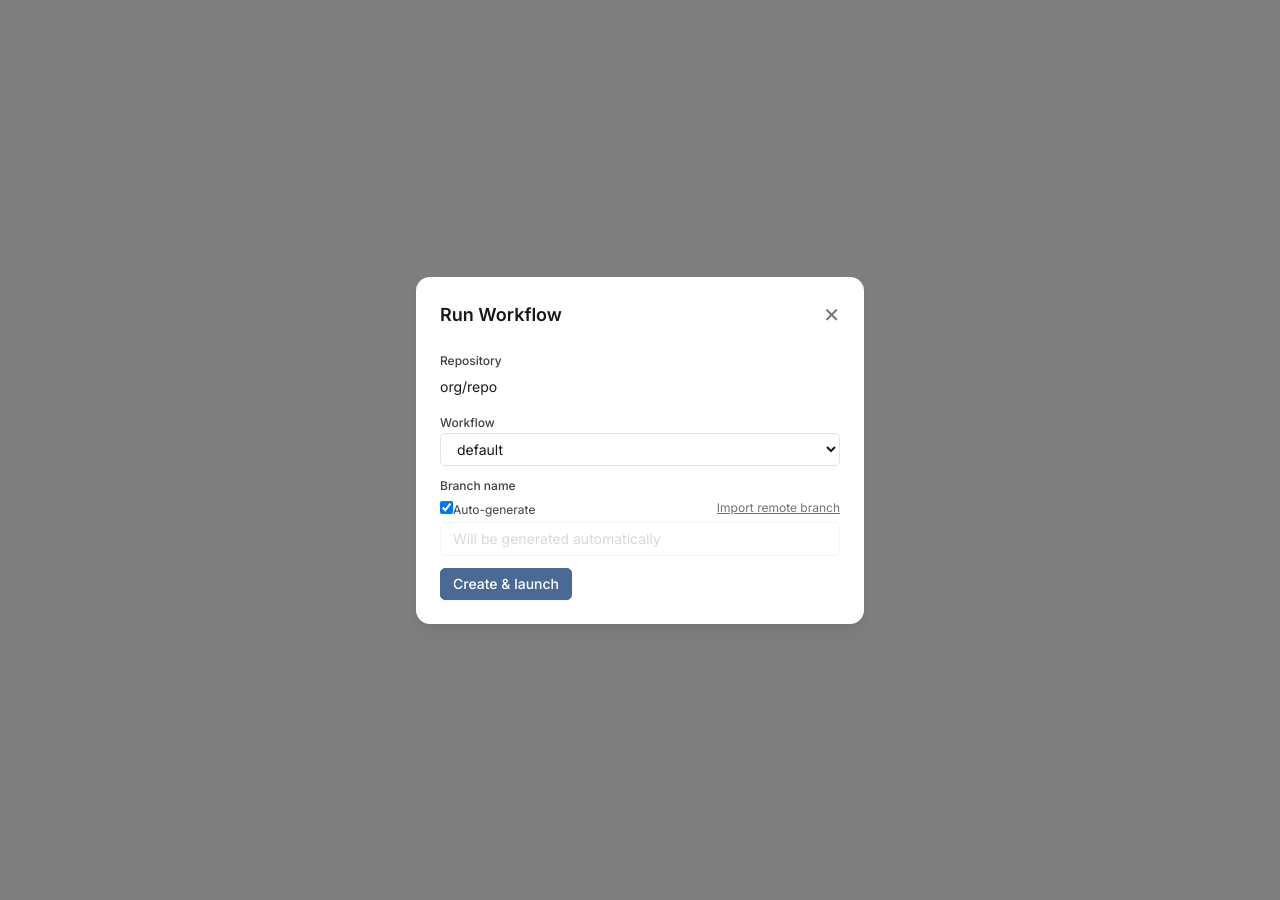
Test case: RunWorkflowModal › import remote branch mode › clears stale branch when entering import mode and all branches are filtered out
This screenshot has width=1280, height=900.
Expected: the text "Auto-generate" is shown, [453,502,535,516]
Note: Uncheck auto-generate and type a manual branch name
Click the checkbox labelled "Auto-generate".
click(446, 507)  # box [440,500,453,514]
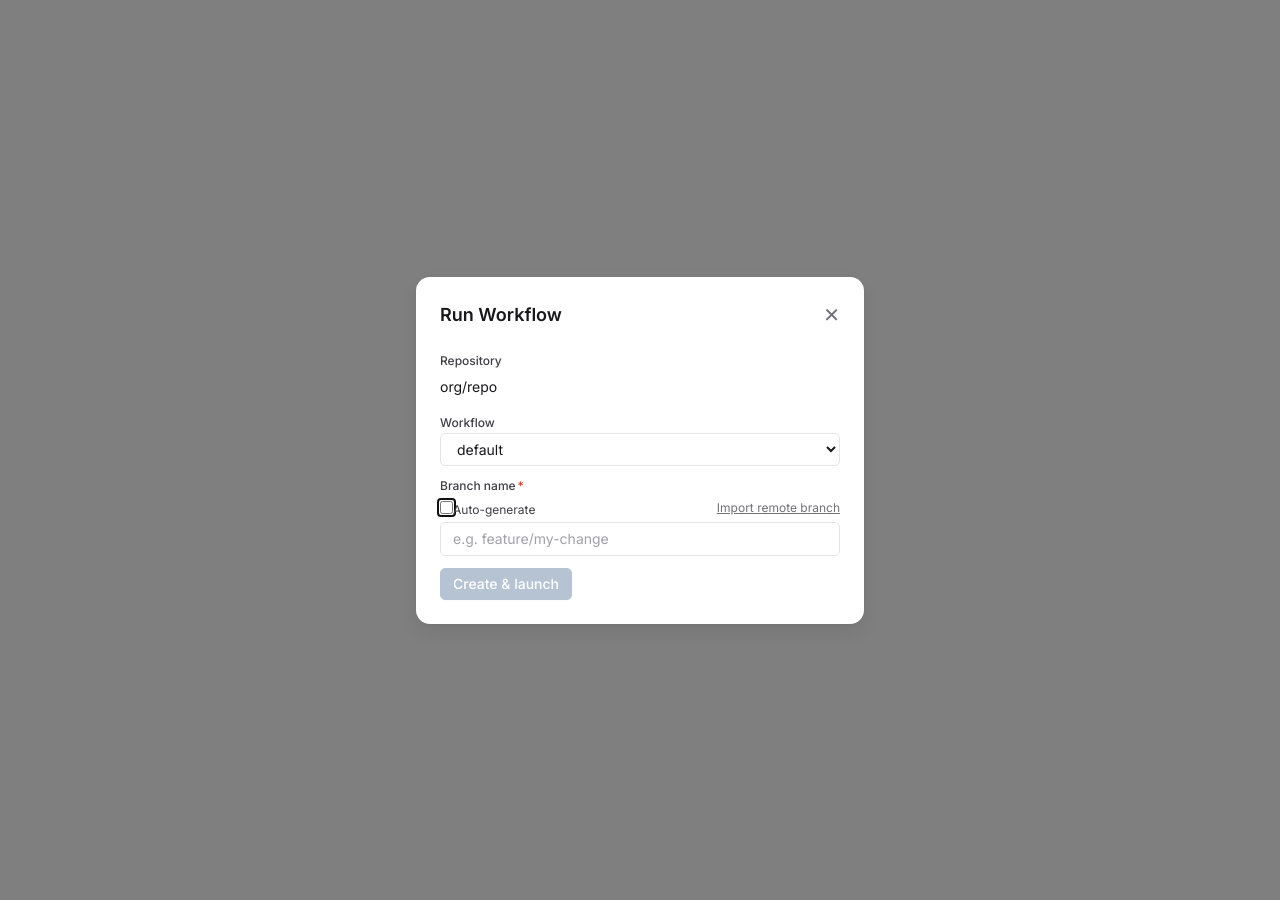
Type "my-manual-branch" into the field with placeholder "e.g. feature/my-change".
click(640, 538); type("my-manual-branch")  # box [440,522,840,556]
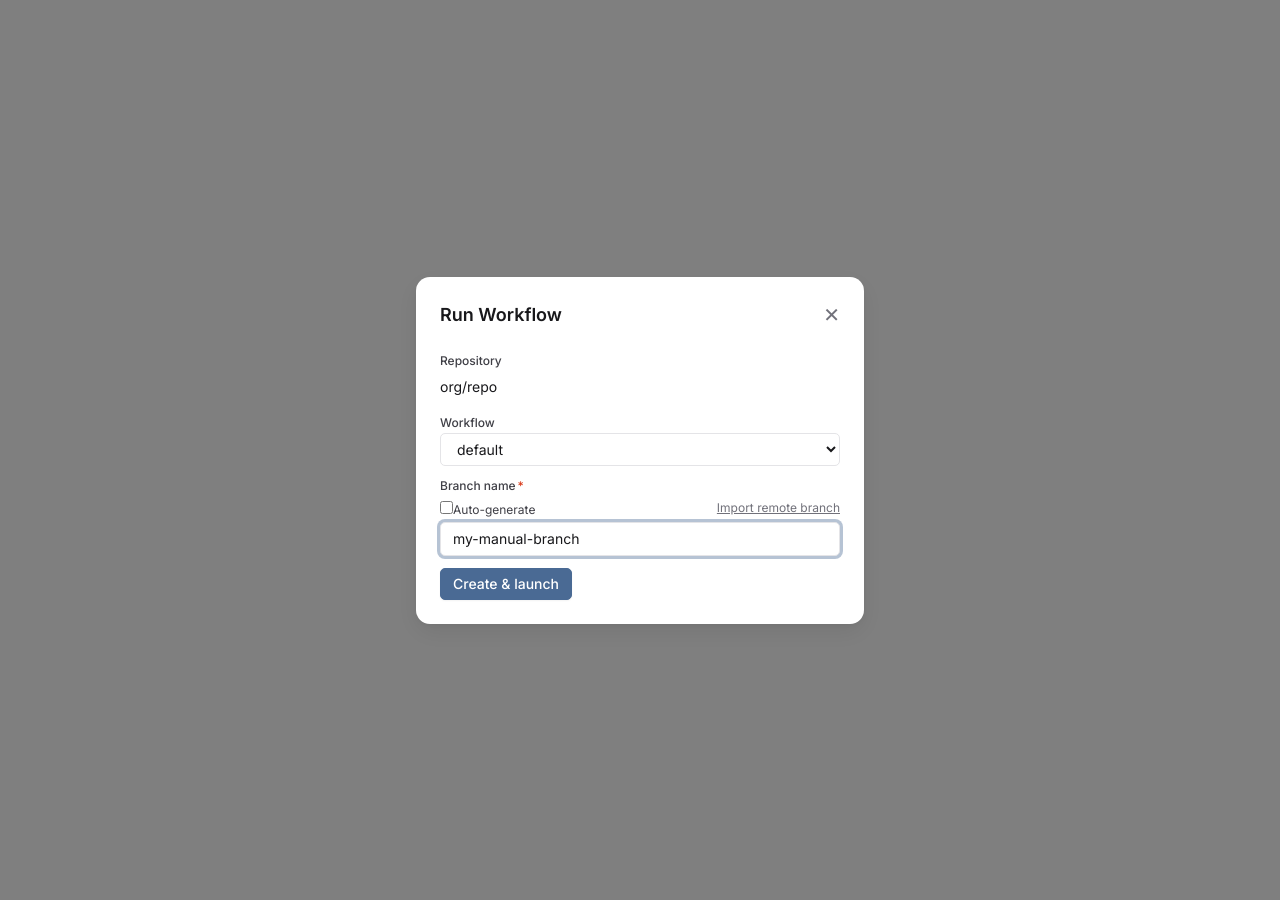
Note: Now enter import mode — all remote branches are already local worktrees
Click the button "Import remote branch".
click(778, 508)  # box [717,500,840,516]
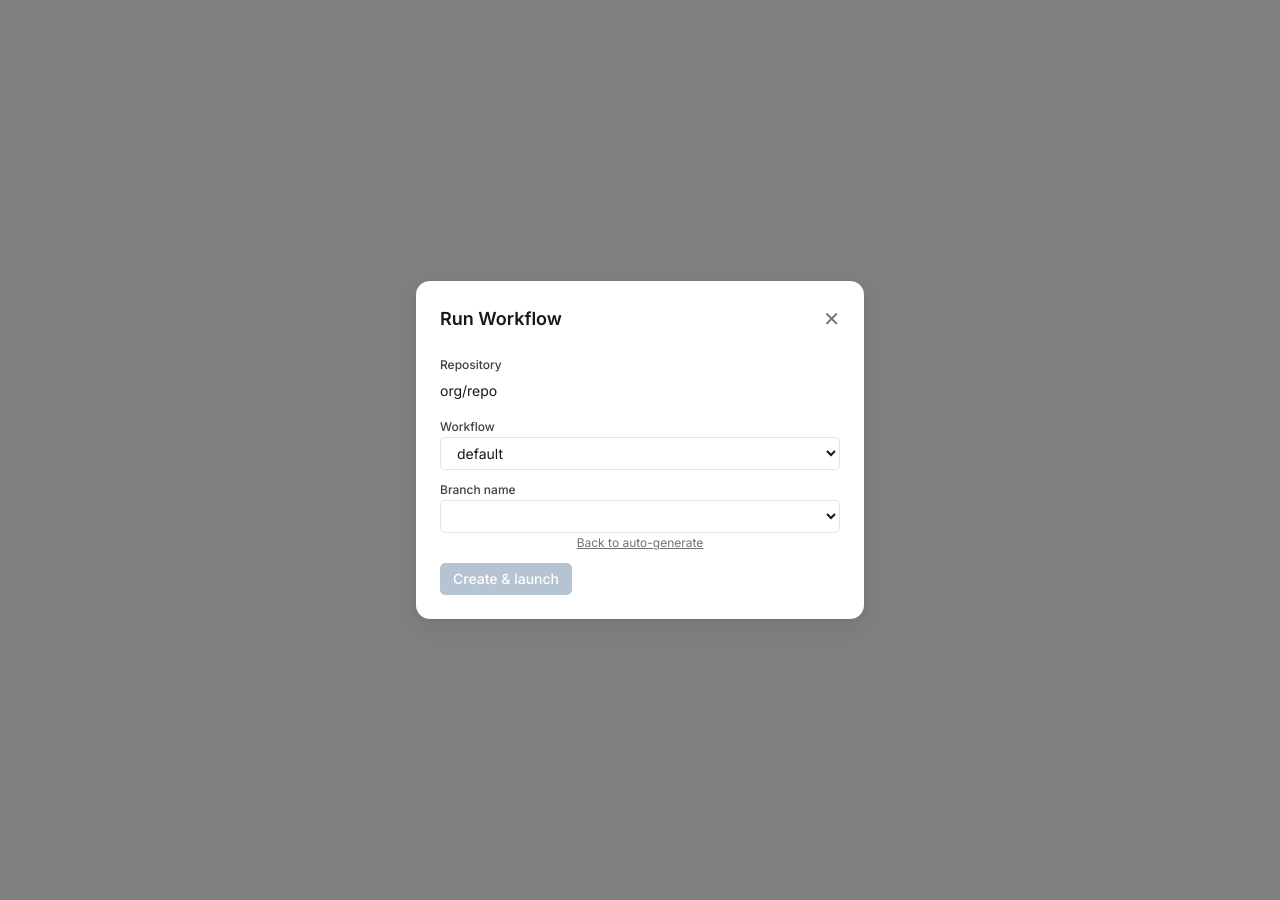
Expected: the button "Create & launch" is disabled, [440,563,572,595]
